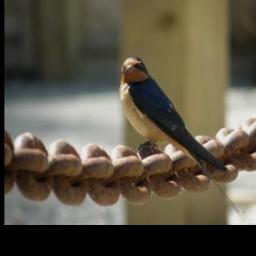Swallow: (117, 56, 244, 218)
